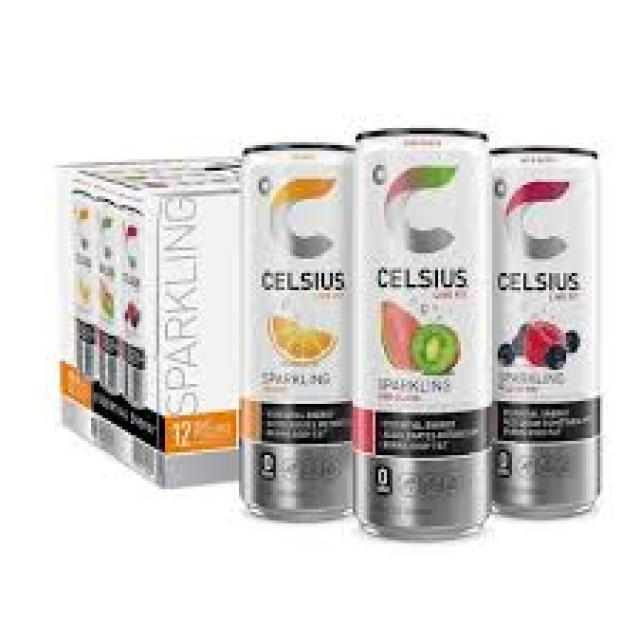Cans: (336, 122, 506, 549)
